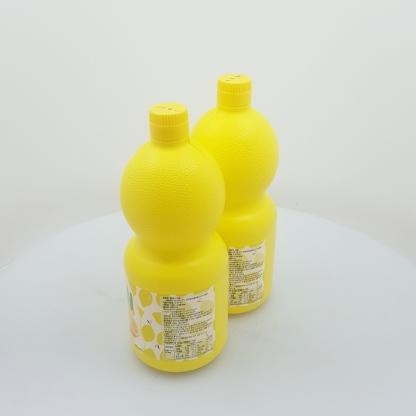-------: (120, 102, 229, 372), (189, 73, 279, 314)
